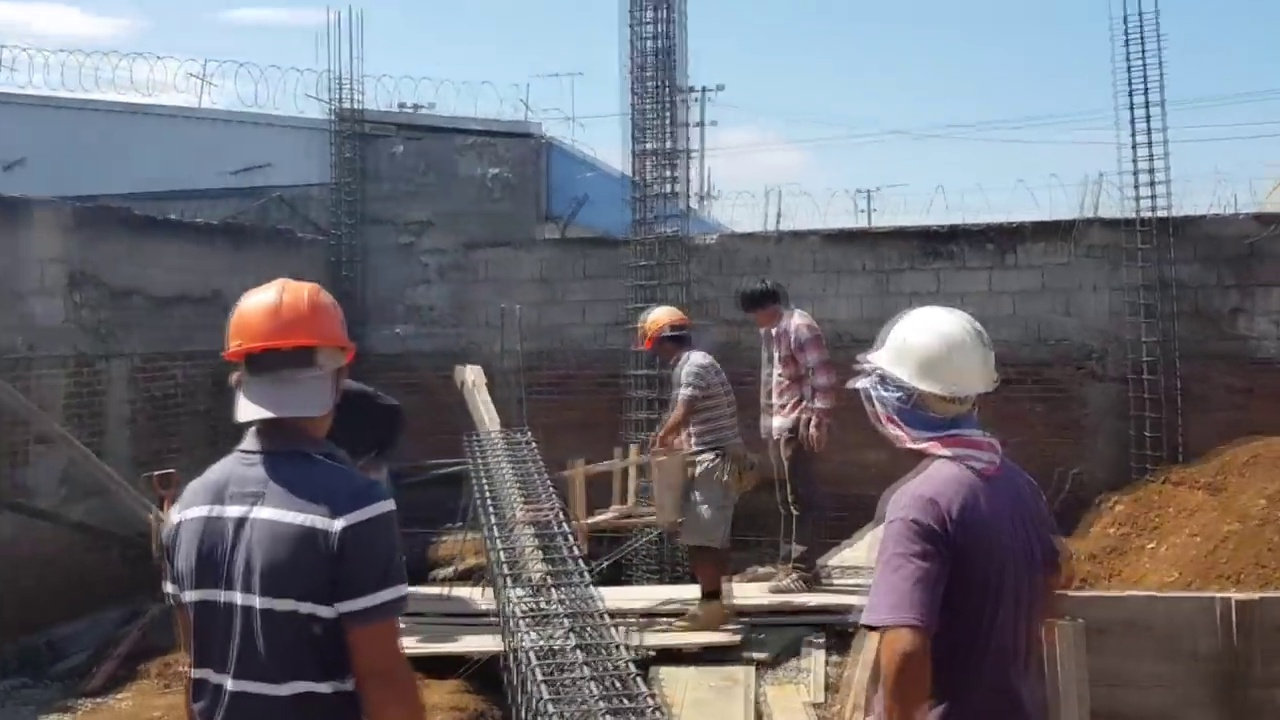helmet: (860, 308, 1002, 407), (213, 281, 353, 377), (634, 308, 692, 351)
helmet-off: (740, 282, 792, 335)
helmet-on: (210, 274, 357, 460), (852, 306, 1008, 462), (634, 308, 695, 372)
person: (165, 271, 435, 720), (837, 312, 1077, 720), (632, 300, 764, 627), (738, 284, 849, 574)
